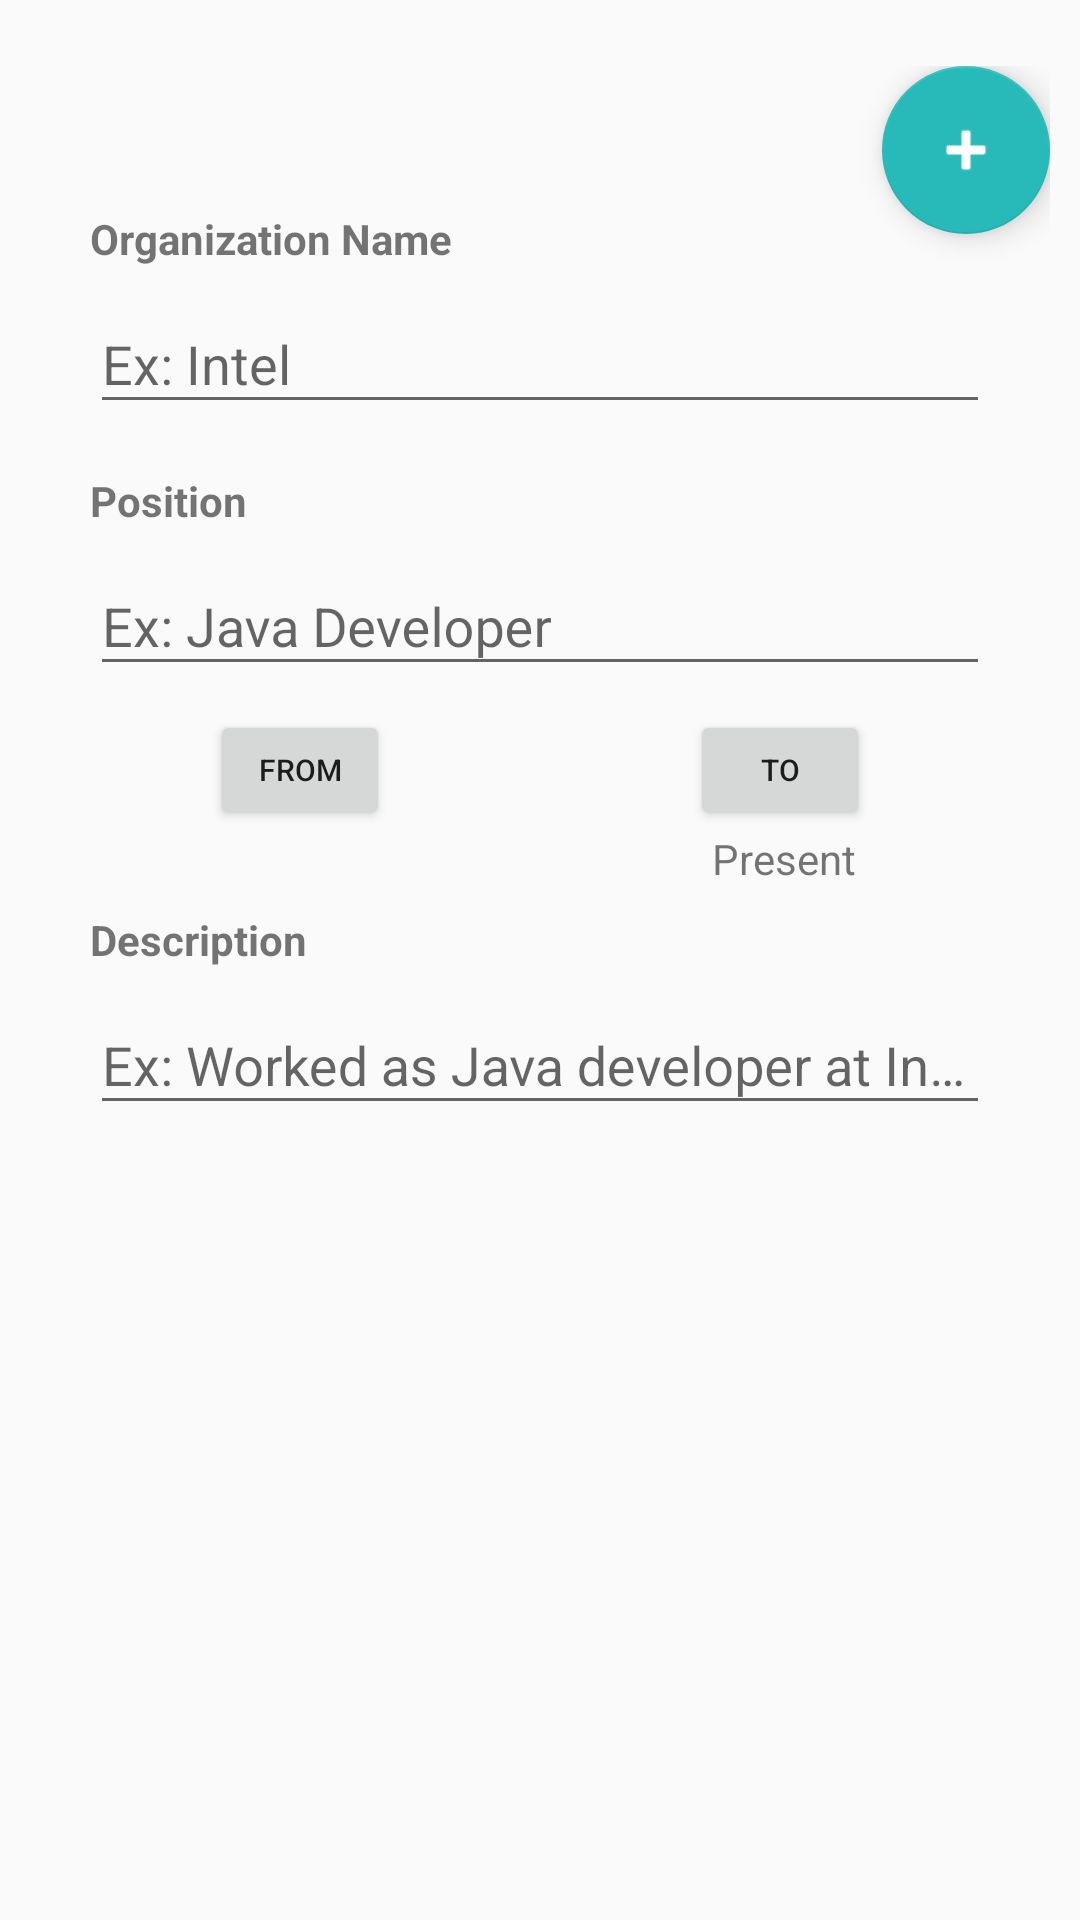

Icons on this 1080w x 1920h Android screen, each with its box as (x1, y1, x2, y2):
add: (882, 66, 1050, 234)
